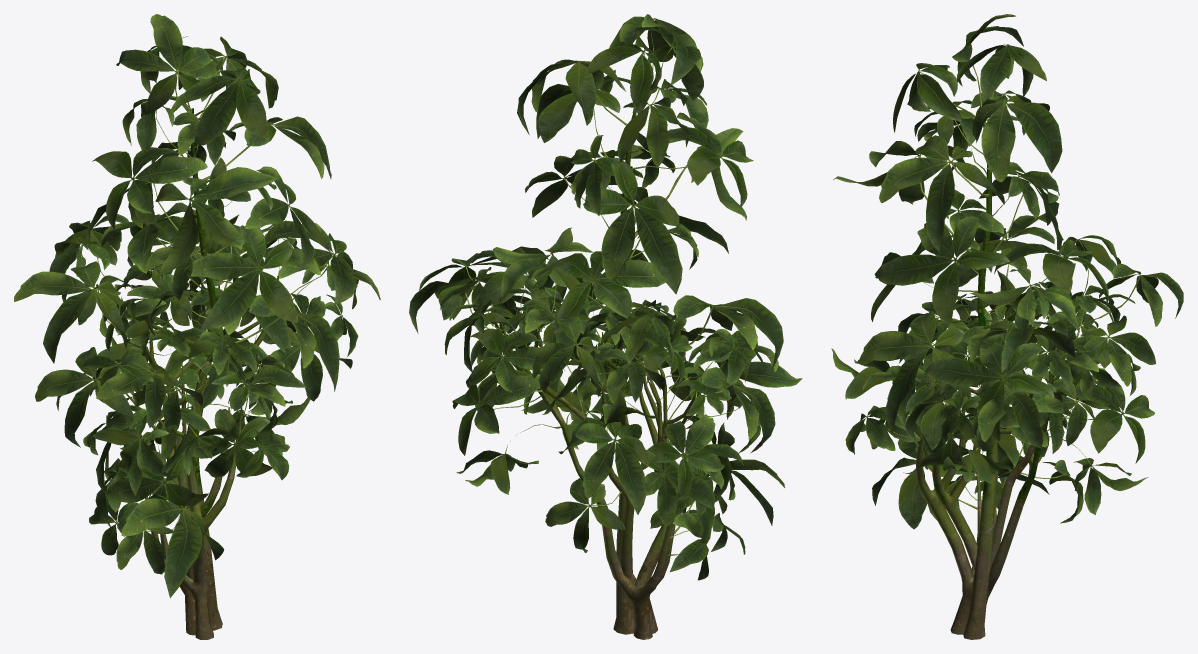
The model's file is pachira_aquatica.glb.
3 views of the same model, side by side, from view 1: azimuth 30°, elevation 25°; view 2: azimuth 150°, elevation 25°; view 3: azimuth 270°, elevation 25° (orthographic). The views are drawn at different scales.
Visible parts, largest first — view 1: pachira_d, pachira_c; view 2: pachira_d, pachira_c; view 3: pachira_d, pachira_c.
Part boxes in pixels (left/top/right/bottom): pachira_d: left=14, top=14, right=358, bottom=635; pachira_c: left=56, top=214, right=380, bottom=639; pachira_d: left=419, top=14, right=783, bottom=639; pachira_c: left=409, top=263, right=802, bottom=633; pachira_d: left=833, top=14, right=1183, bottom=639; pachira_c: left=831, top=281, right=1155, bottom=634.
Bounding box in the file's own units: 2.41 × 4.18 × 2.2.
4 materials, 4 textured.
